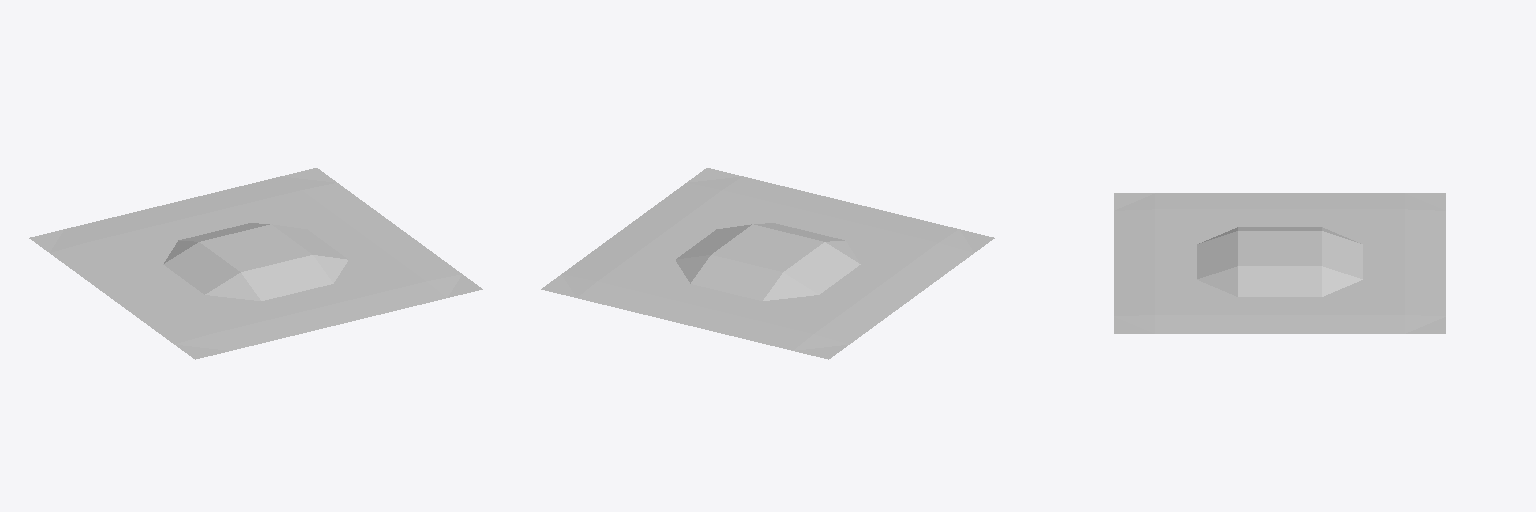
Rendered from squareArena.obj.
3 renders of one model, left to right at view 1: azimuth 30°, elevation 25°; view 2: azimuth 150°, elevation 25°; view 3: azimuth 270°, elevation 25°, orthographic.
Parts seen in each view (by area): view 1: Cube; view 2: Cube; view 3: Cube.
Part boxes in pixels (x1,y1,x2,y2): Cube: (29,168,482,359); Cube: (541,168,994,359); Cube: (1114,193,1445,333).
Bounding box in the file's own units: 16.95 × 0.8633 × 16.95.